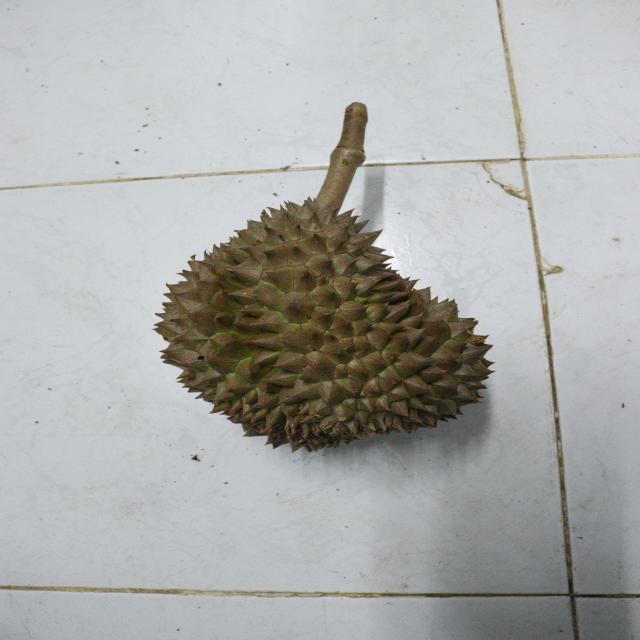mature: (152, 195, 501, 449)
